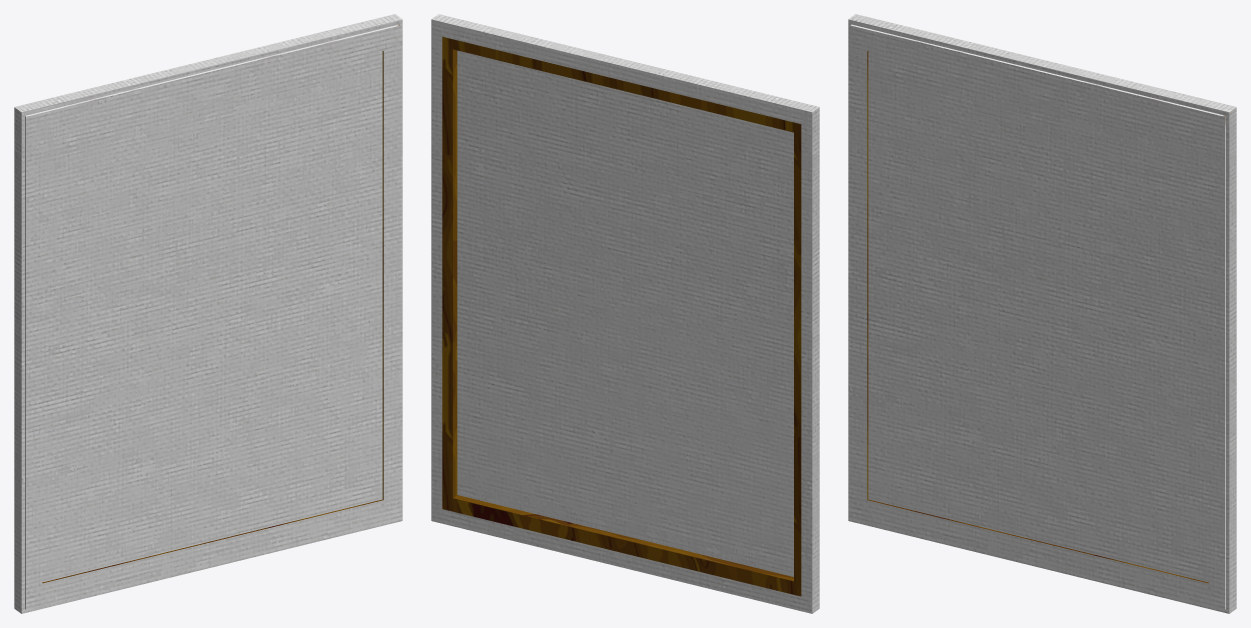
The model's file is painting-t1_dot40.glb.
The picture shows the model from 3 angles, left to right: view 1: azimuth 30°, elevation 25°; view 2: azimuth 150°, elevation 25°; view 3: azimuth 330°, elevation 25°; orthographic projection.
Visible parts, largest first — view 1: painting_canvas.002, painting_canvas.001; view 2: painting_canvas.002, painting_canvas.001; view 3: painting_canvas.002, painting_canvas.001.
Boxes of the visible parts, x1,y1,x2,y2 form: painting_canvas.002: (14,14,402,613); painting_canvas.001: (25,24,400,609); painting_canvas.002: (431,14,819,613); painting_canvas.001: (442,37,801,596); painting_canvas.002: (848,14,1236,613); painting_canvas.001: (850,24,1225,609).
Bounding box in the file's own units: 1.27 × 1.59 × 0.0497.
2 materials, 2 textured.
